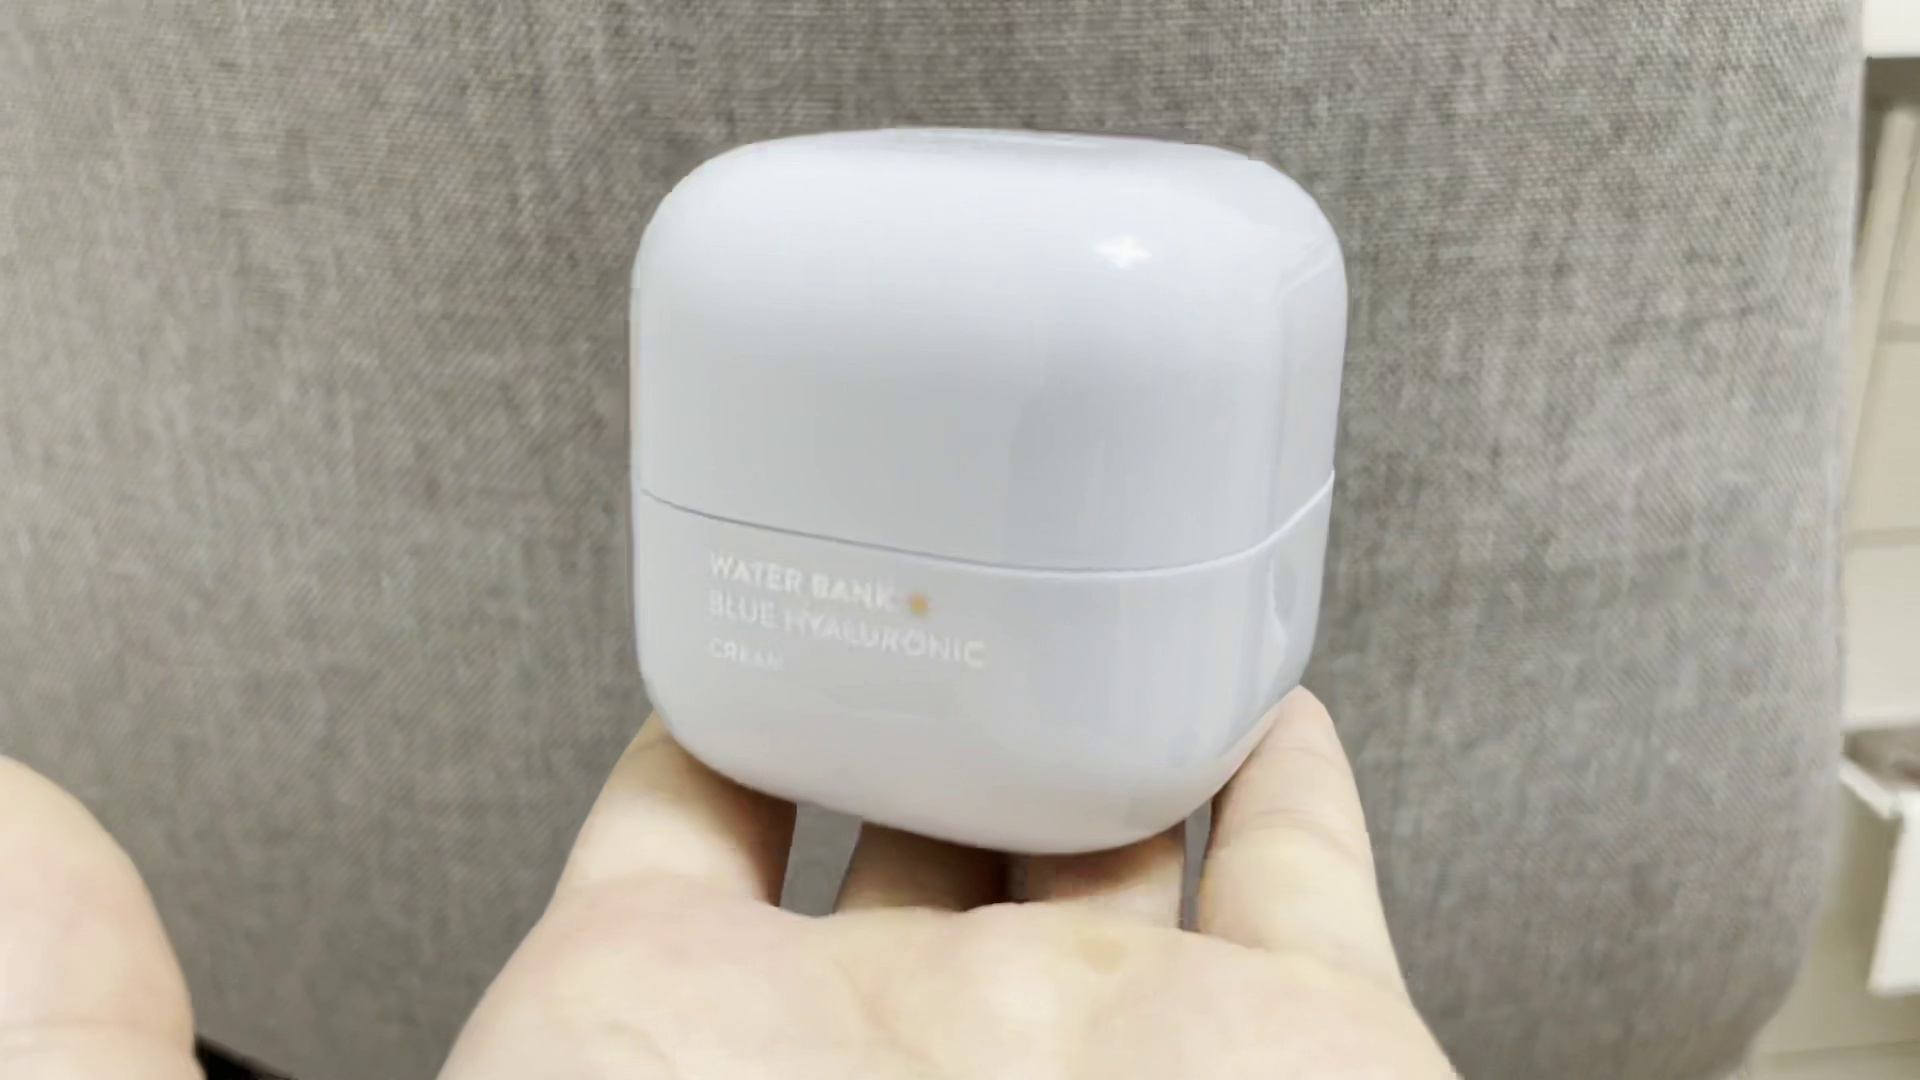cream: (624, 127, 1346, 855)
